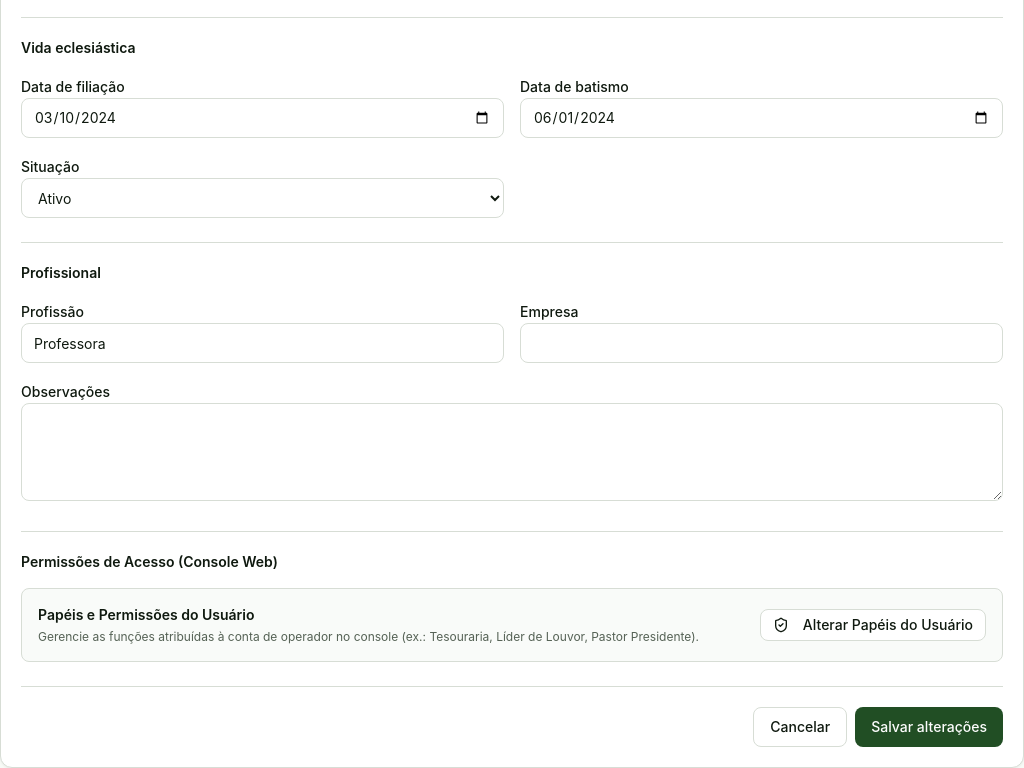
formulário de membro › permite abrir o modal e salvar novos papéis na tela de edição do membro
(page scrolled)
What coordinates should you click on to do the following:
click the button "Alterar Papéis do Usuário"
I would click on:
 (873, 625)
Its box is top-left (760, 609), bottom-right (986, 641).
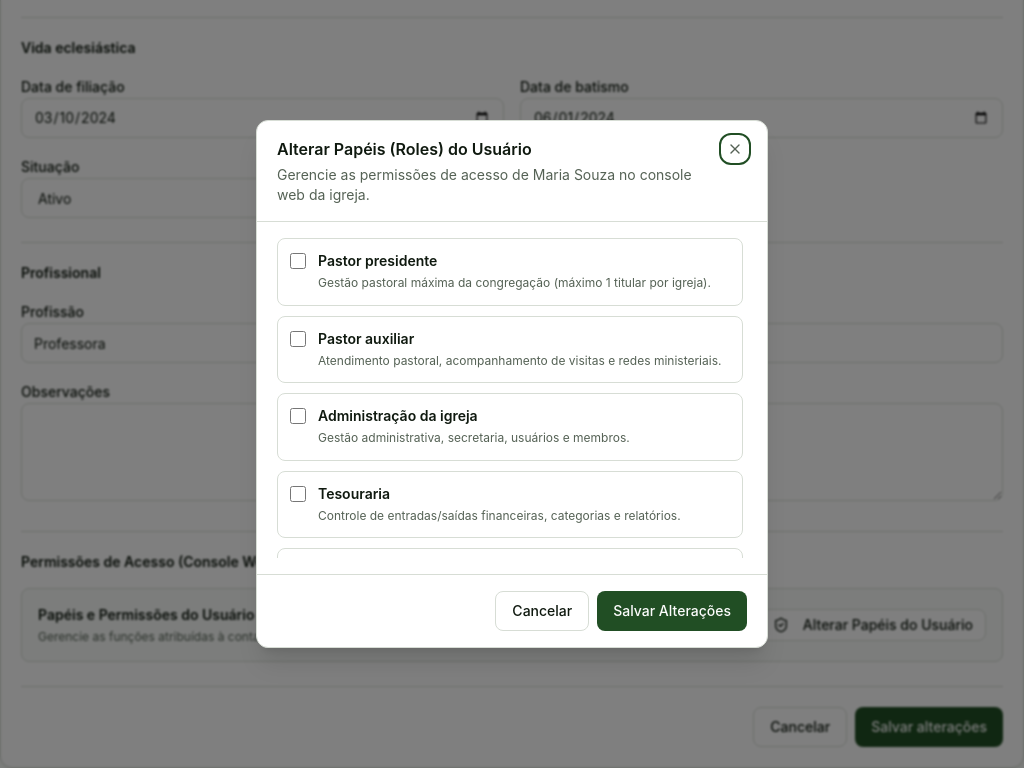
Expected: the heading "Alterar Papéis (Roles) do Usuário" is shown, top-left (277, 139), bottom-right (532, 159)
What coordinates should you click on to do the following:
click the checkbox labelled "Tesouraria"
I would click on:
 (298, 494)
Its box is top-left (290, 486), bottom-right (306, 502).
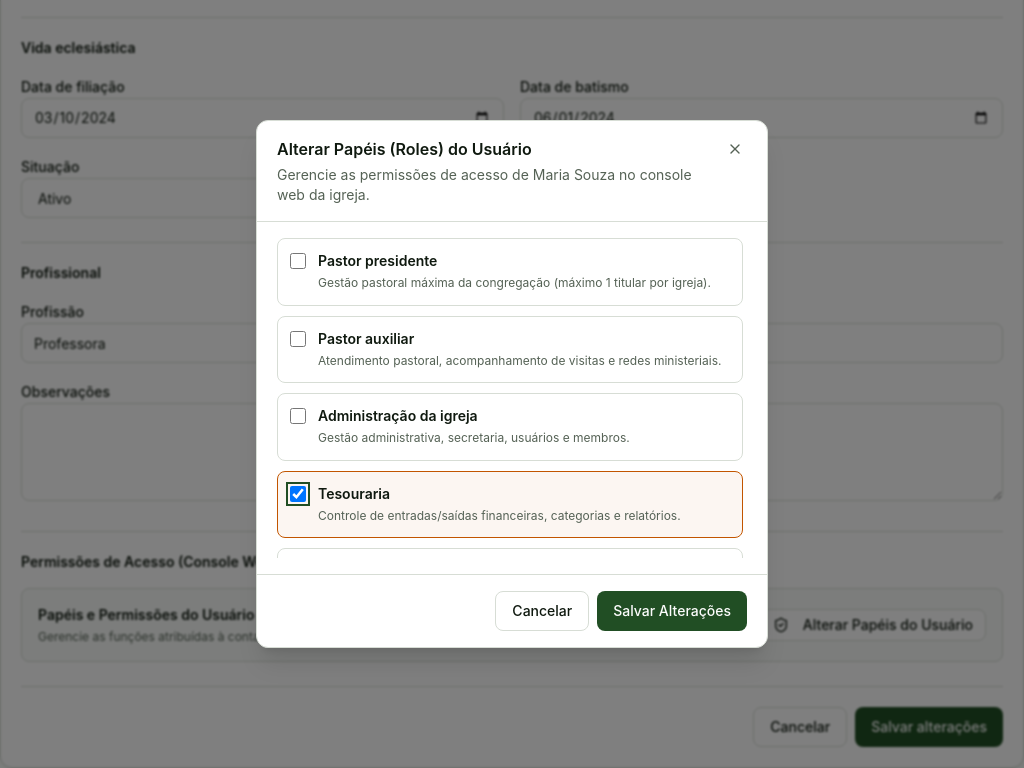
What coordinates should you click on to do the following:
click the button "Salvar Alterações"
I would click on:
 (672, 611)
Its box is top-left (597, 591), bottom-right (747, 631).
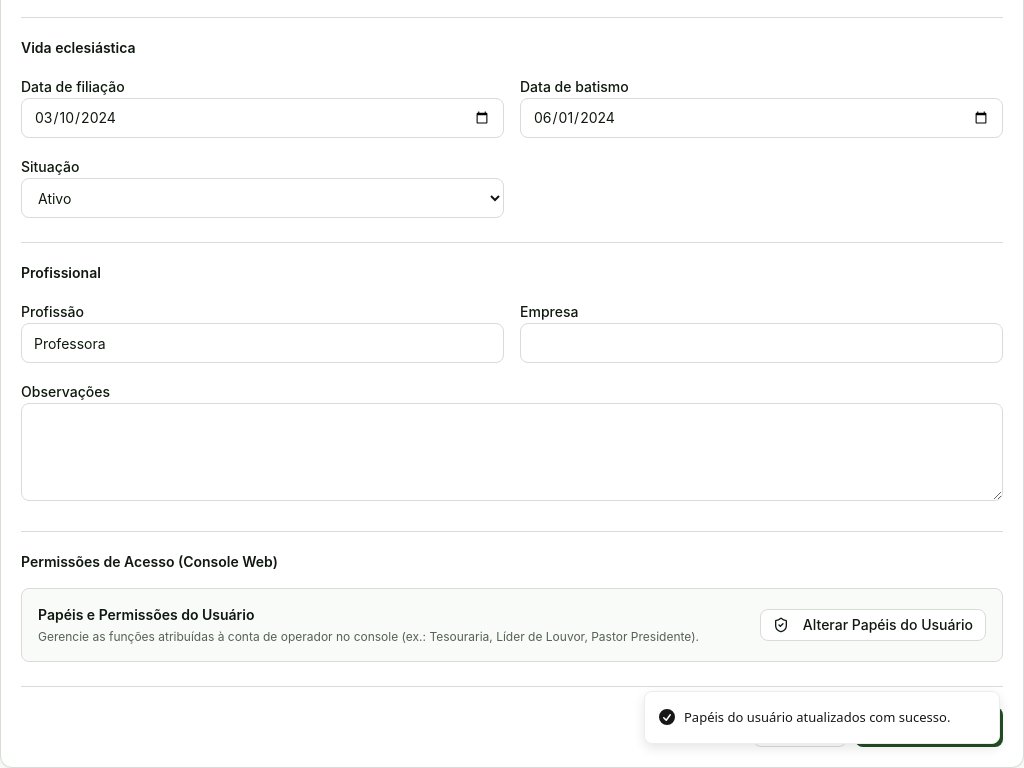
Expected: the heading "Alterar Papéis (Roles) do Usuário" is gone
